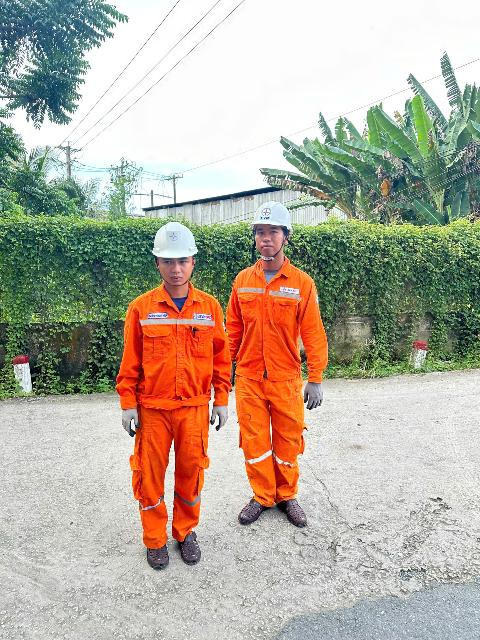gloves: (287, 366, 334, 409), (114, 407, 146, 444), (203, 390, 233, 428)
helmet: (138, 216, 221, 271), (237, 197, 299, 242)
shoes: (177, 518, 207, 573), (134, 536, 176, 570), (277, 491, 314, 529), (237, 492, 268, 527)
